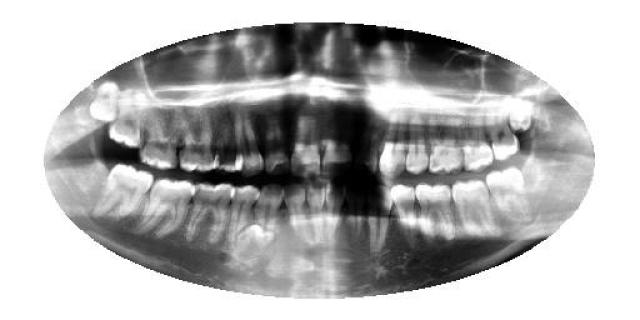Restorations: (86, 80, 120, 124)
